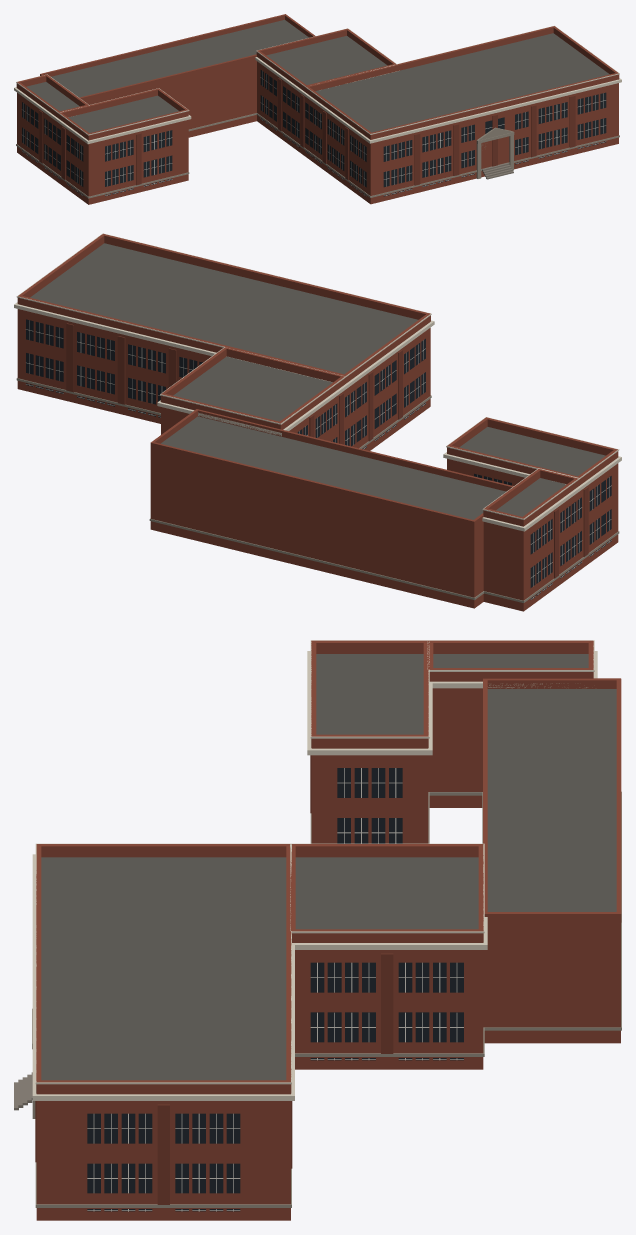
The model's file is pulaski-heights-school-1961.glb.
3 renders of one model, top to bottom at view 1: azimuth 30°, elevation 25°; view 2: azimuth 150°, elevation 25°; view 3: azimuth 270°, elevation 25°, orthographic. The views are drawn at different scales.
Parts seen in each view (by area): view 1: pulaski_brick, pulaski_tar, pulaski_glass, pulaski_trim, pulaski_brick2, pulaski_sash, pulaski_stone, pulaski_base; view 2: pulaski_brick, pulaski_tar, pulaski_glass, pulaski_trim, pulaski_brick2, pulaski_sash, pulaski_stone; view 3: pulaski_tar, pulaski_brick, pulaski_glass, pulaski_trim, pulaski_stone, pulaski_brick2, pulaski_sash.
Part boxes in pixels (x1,y1,x2,y2): pulaski_brick: (16,14,619,204); pulaski_tar: (26,19,609,132); pulaski_glass: (22,70,606,196); pulaski_trim: (14,25,621,144); pulaski_brick2: (39,78,575,185); pulaski_sash: (22,71,605,196); pulaski_stone: (16,113,619,198); pulaski_base: (482,162,513,179); pulaski_brick: (17,233,618,611); pulaski_tar: (30,243,605,519); pulaski_glass: (26,319,611,599); pulaski_trim: (14,233,621,531); pulaski_brick2: (66,323,588,578); pulaski_sash: (25,320,611,599); pulaski_stone: (16,378,619,602); pulaski_tar: (41,654,616,1080); pulaski_brick: (36,640,621,1220); pulaski_glass: (87,768,463,1211); pulaski_trim: (32,640,597,1100); pulaski_stone: (32,791,621,1207); pulaski_brick2: (35,755,393,1204); pulaski_sash: (87,768,463,1211).
Size of the model in its own units: 76.6 by 11.1 by 44.23.
